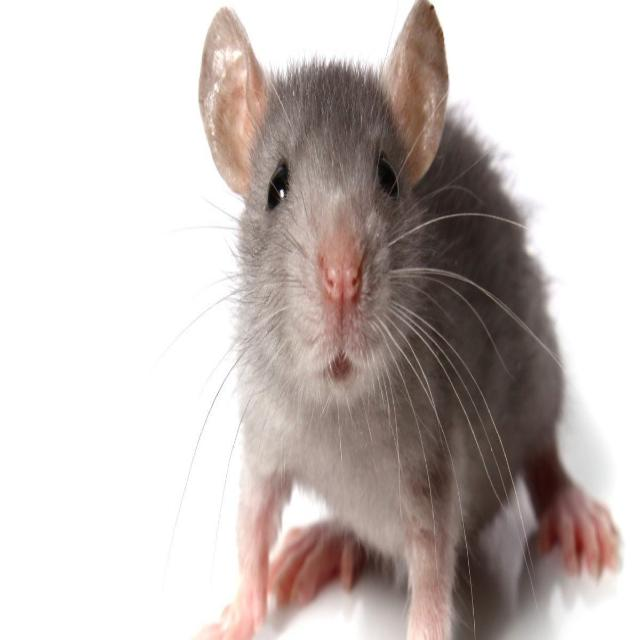Mouse: (192, 13, 617, 631)
